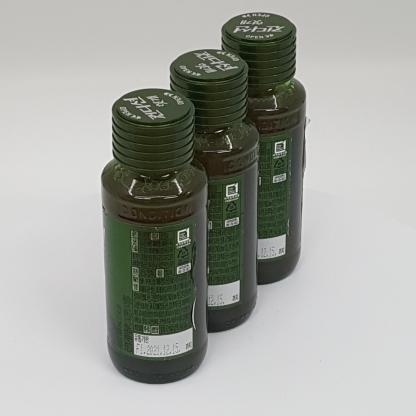CJ-----100ML: (101, 89, 210, 384), (154, 49, 260, 332), (203, 13, 310, 285)
